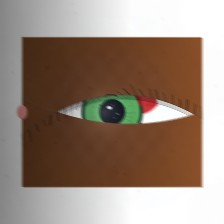hemorrhage_spot: (81, 67, 169, 137)
